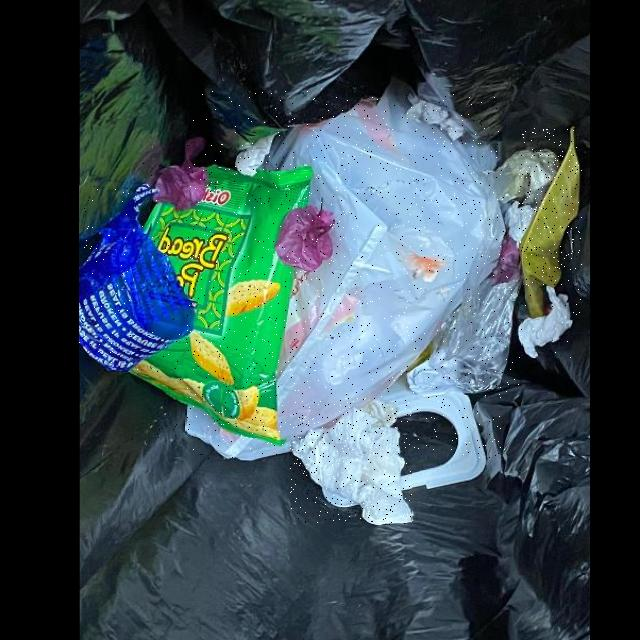biowaste: (520, 128, 582, 316)
paper: (291, 397, 412, 524), (519, 285, 573, 358)
plastic: (186, 91, 505, 459), (407, 275, 522, 394)
wrapper: (130, 162, 313, 446), (80, 185, 196, 371)
